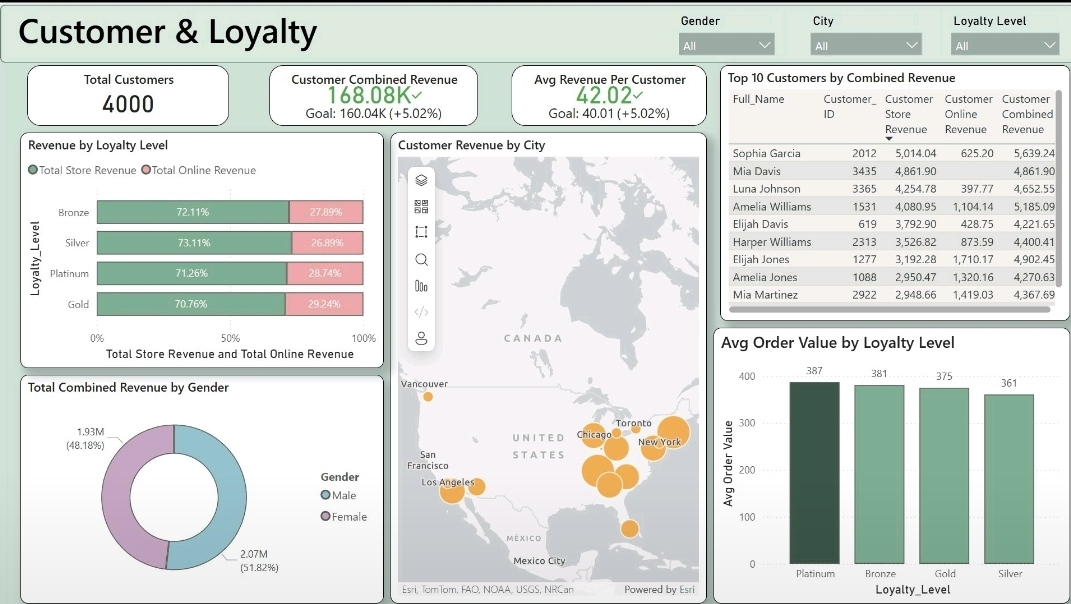

What the dashboard file says about the page in this screenshot:
{"tool":"powerbi","page":{"name":"Customer & Loyalty Analysis","canvas":[1280,720],"ordinal":3},"visuals":[{"type":"shape","box":[0,0,1280,68.9],"z":0},{"type":"textbox","title":"Customer & Loyalty Analysis","box":[16,2,368,56],"z":1000},{"type":"kpi","title":"Avg Revenue Per Customer","fields":{"TrendLine":["gold dim_date.Month_Year"],"Indicator":["measure.Avg Revenue per Customer"],"Goal":["measure.Target Avg Revenue per Customer"]},"box":[608,72,232,72],"z":2000},{"type":"kpi","title":"Customer Combined Revenue","fields":{"Indicator":["measure.Customer Combined Revenue"],"TrendLine":["gold dim_date.Month_Year"],"Goal":["measure.Target Total Combined Revenue"]},"box":[320,72,248,72],"z":3000},{"type":"kpi","title":" Total Customers","fields":{"TrendLine":["gold dim_date.Month_Year"],"Indicator":["measure.Total Customers"]},"box":[32,72,240,72],"z":4000},{"type":"donutChart","fields":{"Category":["gold dim_customer.Gender"],"Y":["measure.Total Combined Revenue"]},"box":[24,440,432,272],"z":5000},{"type":"tableEx","title":"Top 10 Customers by Combined Revenue","fields":{"Values":["gold dim_customer.Full_Name","gold dim_customer.Customer_ID","measure.Customer Store Revenue","measure.Customer Online Revenue","measure.Customer Combined Revenue"]},"box":[856,72,416,304],"z":6000},{"type":"slicer","fields":{"Values":["gold dim_customer.Loyalty_Level"]},"box":[1120,5.4,150,54.4],"z":7000},{"type":"slicer","fields":{"Values":["gold dim_customer.Gender"]},"box":[795.6,5.4,135.6,54.4],"z":8000},{"type":"slicer","fields":{"Values":["gold dim_customer.City"]},"box":[953.3,5.4,152.2,54.4],"z":9000},{"type":"esriVisual","title":"Customer Revenue by City","fields":{"Location":["gold dim_customer.City"],"Size":["measure.Total Combined Revenue"]},"box":[464,152,376,560],"z":10000},{"type":"hundredPercentStackedBarChart","title":"Revenue by Loyalty Level","fields":{"Category":["gold dim_customer.Loyalty_Level"],"Y":["measure.Total Store Revenue","measure.Total Online Revenue"]},"box":[24,152,432,280],"z":11000},{"type":"clusteredColumnChart","title":"Avg Order Value by Loyalty Level","fields":{"Category":["gold dim_customer.Loyalty_Level"],"Y":["measure.Avg Order Value"]},"box":[848,384,424,328],"z":12000}]}

Visuals, with their boxes in screenshot pixels (x1, y1, x2, y2), scaled from the page's 1280x720 canvas onto the 1071x604 screenshot:
shape: BBox(0, 0, 1070, 58)
"Customer & Loyalty Analysis" textbox: BBox(13, 2, 321, 49)
"Avg Revenue Per Customer" kpi: BBox(509, 60, 703, 121)
"Customer Combined Revenue" kpi: BBox(268, 60, 475, 121)
" Total Customers" kpi: BBox(27, 60, 228, 121)
donutChart - gold dim_customer.Gender x measure.Total Combined Revenue: BBox(20, 369, 382, 597)
"Top 10 Customers by Combined Revenue" tableEx: BBox(716, 60, 1064, 315)
slicer - gold dim_customer.Loyalty_Level: BBox(937, 5, 1063, 50)
slicer - gold dim_customer.Gender: BBox(666, 5, 779, 50)
slicer - gold dim_customer.City: BBox(798, 5, 925, 50)
"Customer Revenue by City" esriVisual: BBox(388, 128, 703, 597)
"Revenue by Loyalty Level" hundredPercentStackedBarChart: BBox(20, 128, 382, 362)
"Avg Order Value by Loyalty Level" clusteredColumnChart: BBox(710, 322, 1064, 597)
